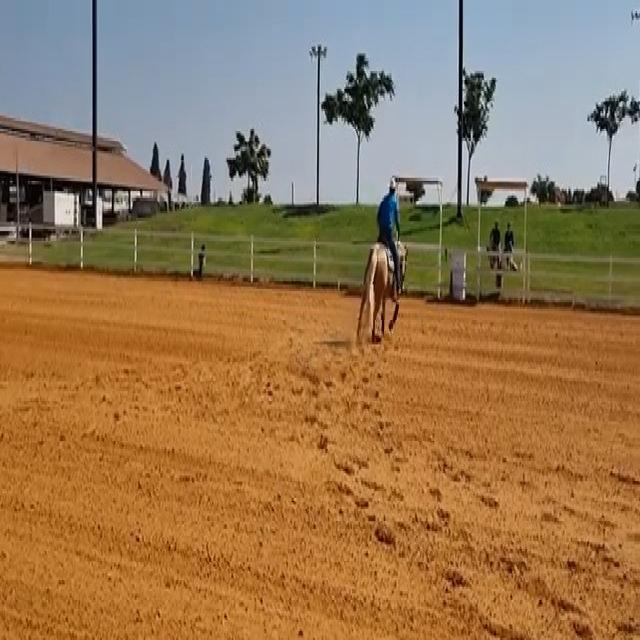horse: (355, 233, 409, 344)
